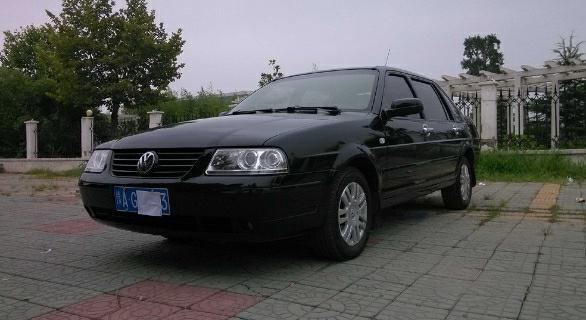大众-桑塔纳志俊: (70, 61, 491, 269)
